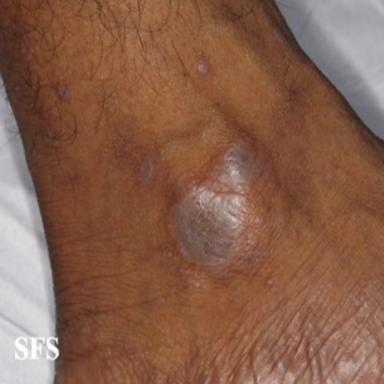lichen: (175, 141, 267, 281), (138, 157, 153, 184)
